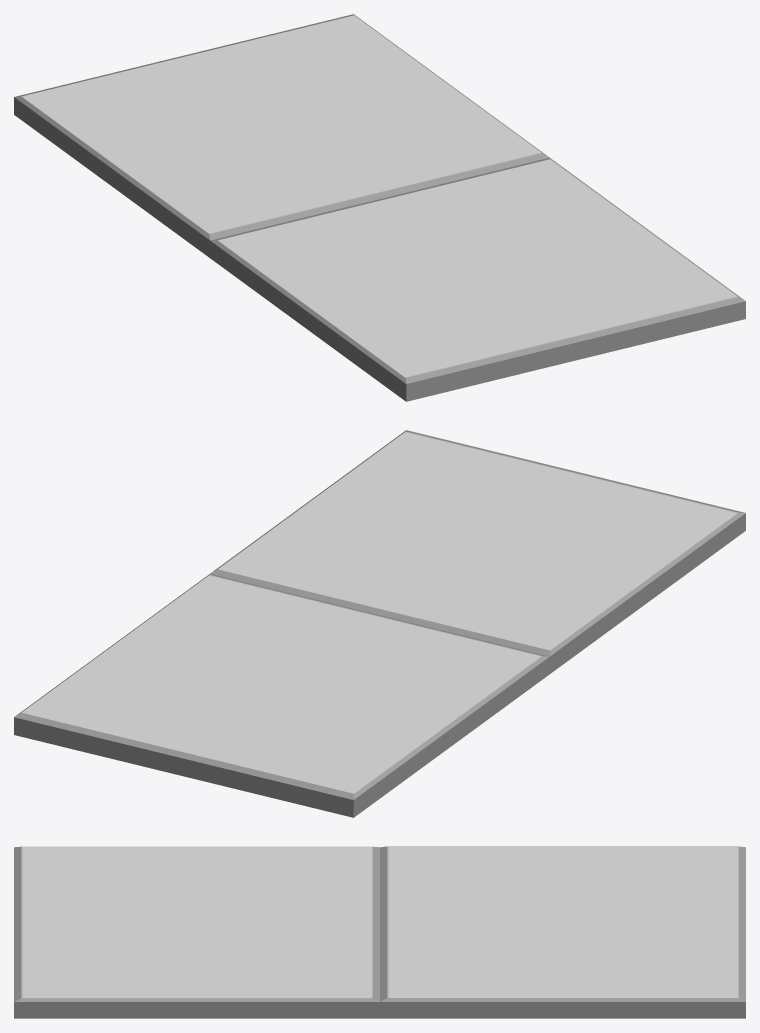
Rendered from podloga10_20.obj.
3 views of the same model, one above another, from view 1: azimuth 30°, elevation 25°; view 2: azimuth 150°, elevation 25°; view 3: azimuth 270°, elevation 25° (orthographic). The views are drawn at different scales.
Parts seen in each view (by area): view 1: Podloga.NR3.005_Cube.005; view 2: Podloga.NR3.005_Cube.005; view 3: Podloga.NR3.005_Cube.005.
Part boxes in pixels (bbox=[...]): Podloga.NR3.005_Cube.005: bbox=[14, 14, 745, 401]; Podloga.NR3.005_Cube.005: bbox=[14, 430, 745, 817]; Podloga.NR3.005_Cube.005: bbox=[14, 846, 745, 1018].
Bounding box in the file's own units: 10 × 0.57 × 20.
Materials: 1 (1 with a texture image).
